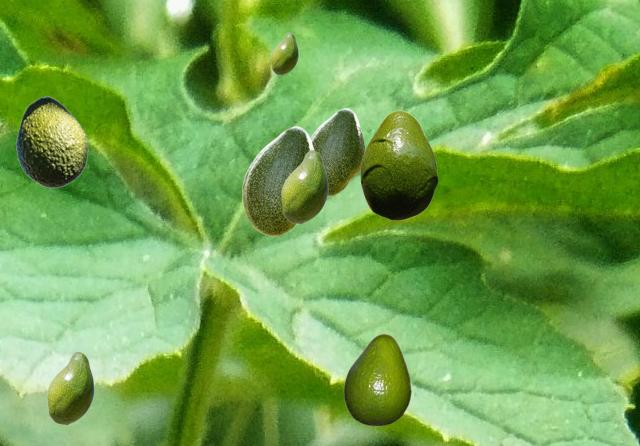avocado: (360, 110, 437, 219), (242, 126, 314, 235), (15, 96, 87, 187), (343, 333, 410, 424), (311, 108, 363, 195), (47, 351, 93, 424), (281, 150, 327, 223), (271, 32, 297, 74)
